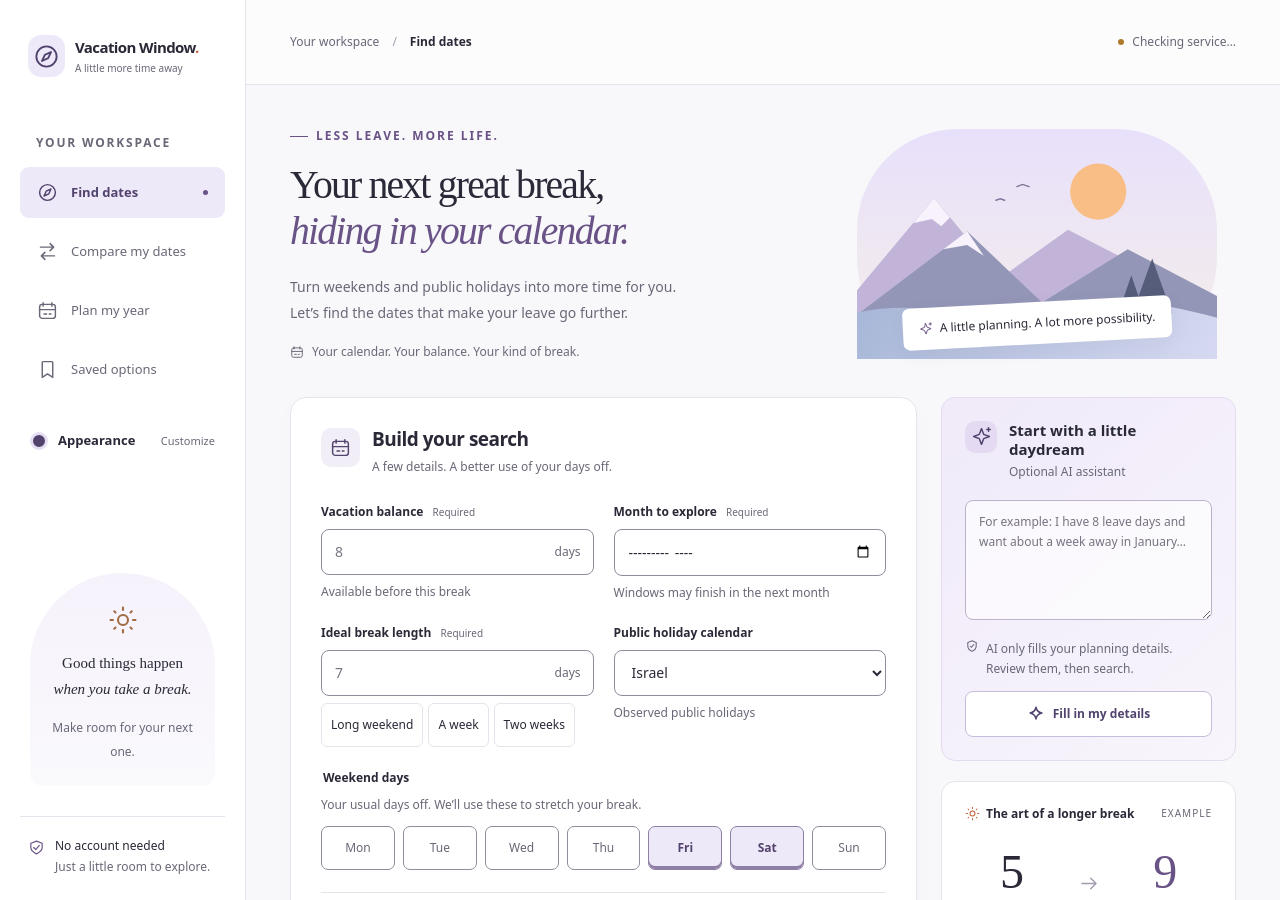
Test: a past model proposal never fills the search month
The image size is (1280, 900).
Replace the text in the text box named "Describe your ideal break" with "next April" at (1088, 560), box 965,500 -> 1212,620
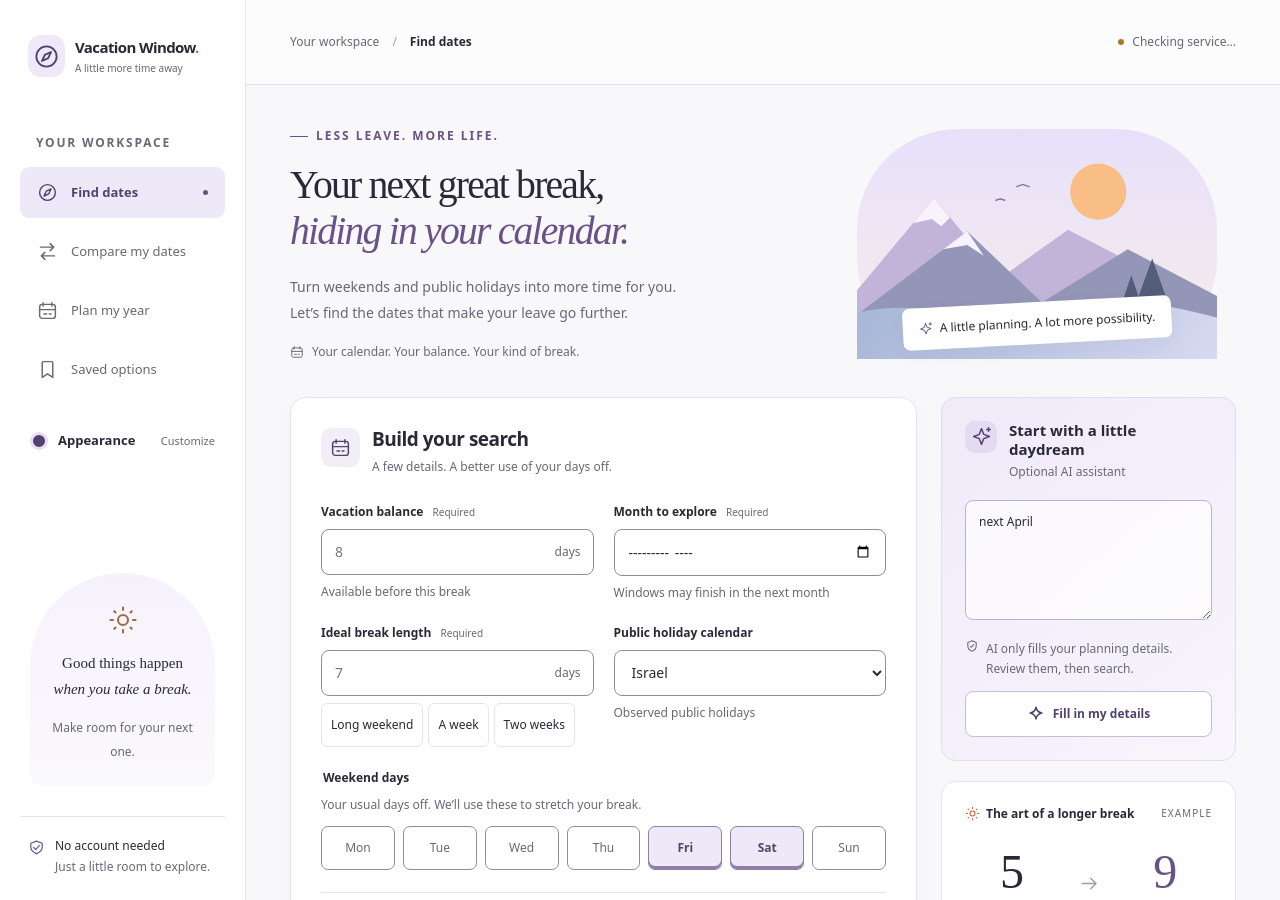
Click the button "Fill in my details".
click(1088, 714)  # box 965,691 -> 1212,737
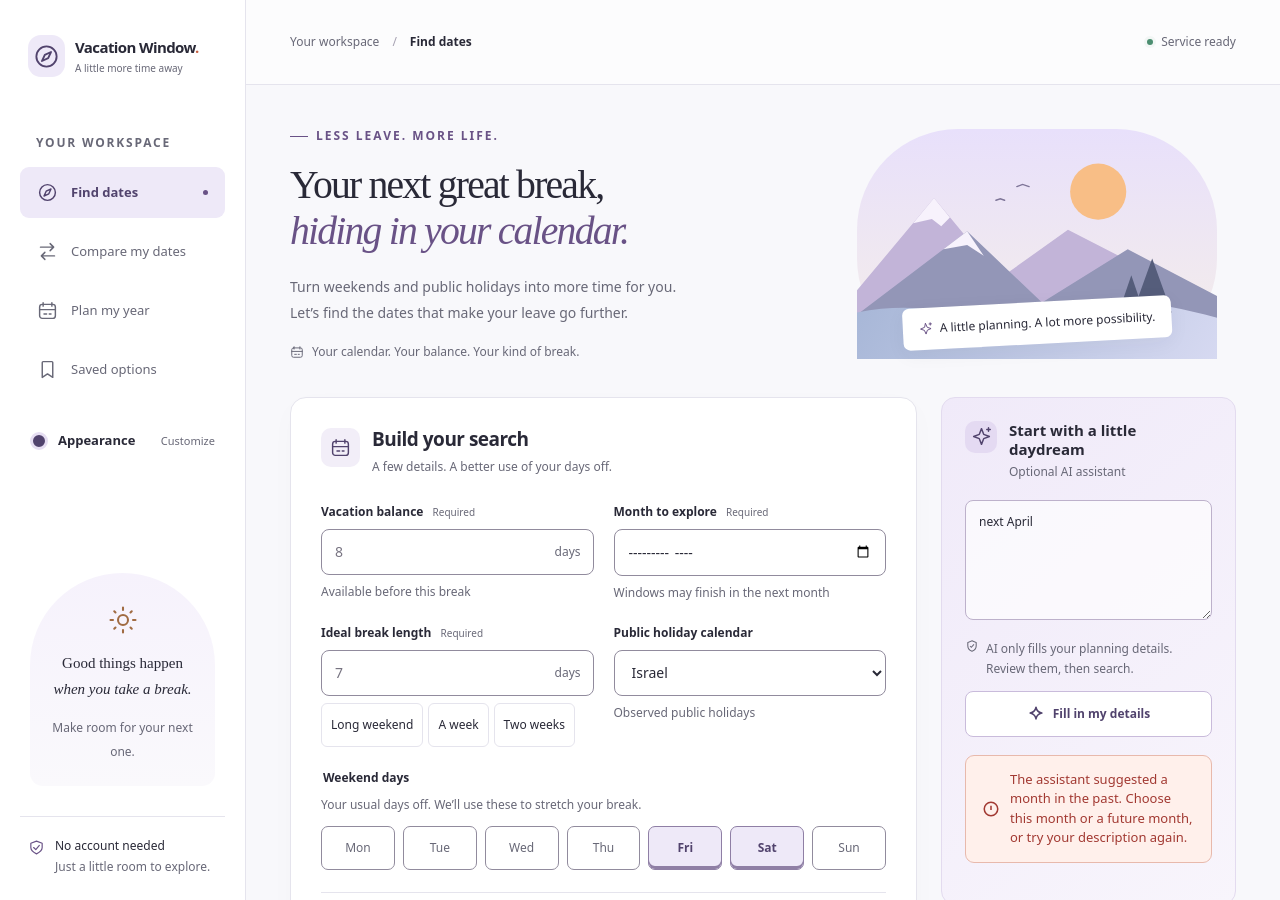
Expected: the field named "Selected month" does not hold "2025-04", 614,529 -> 886,576
Expected: the 2nd message shows "past", 1010,770 -> 1192,846
